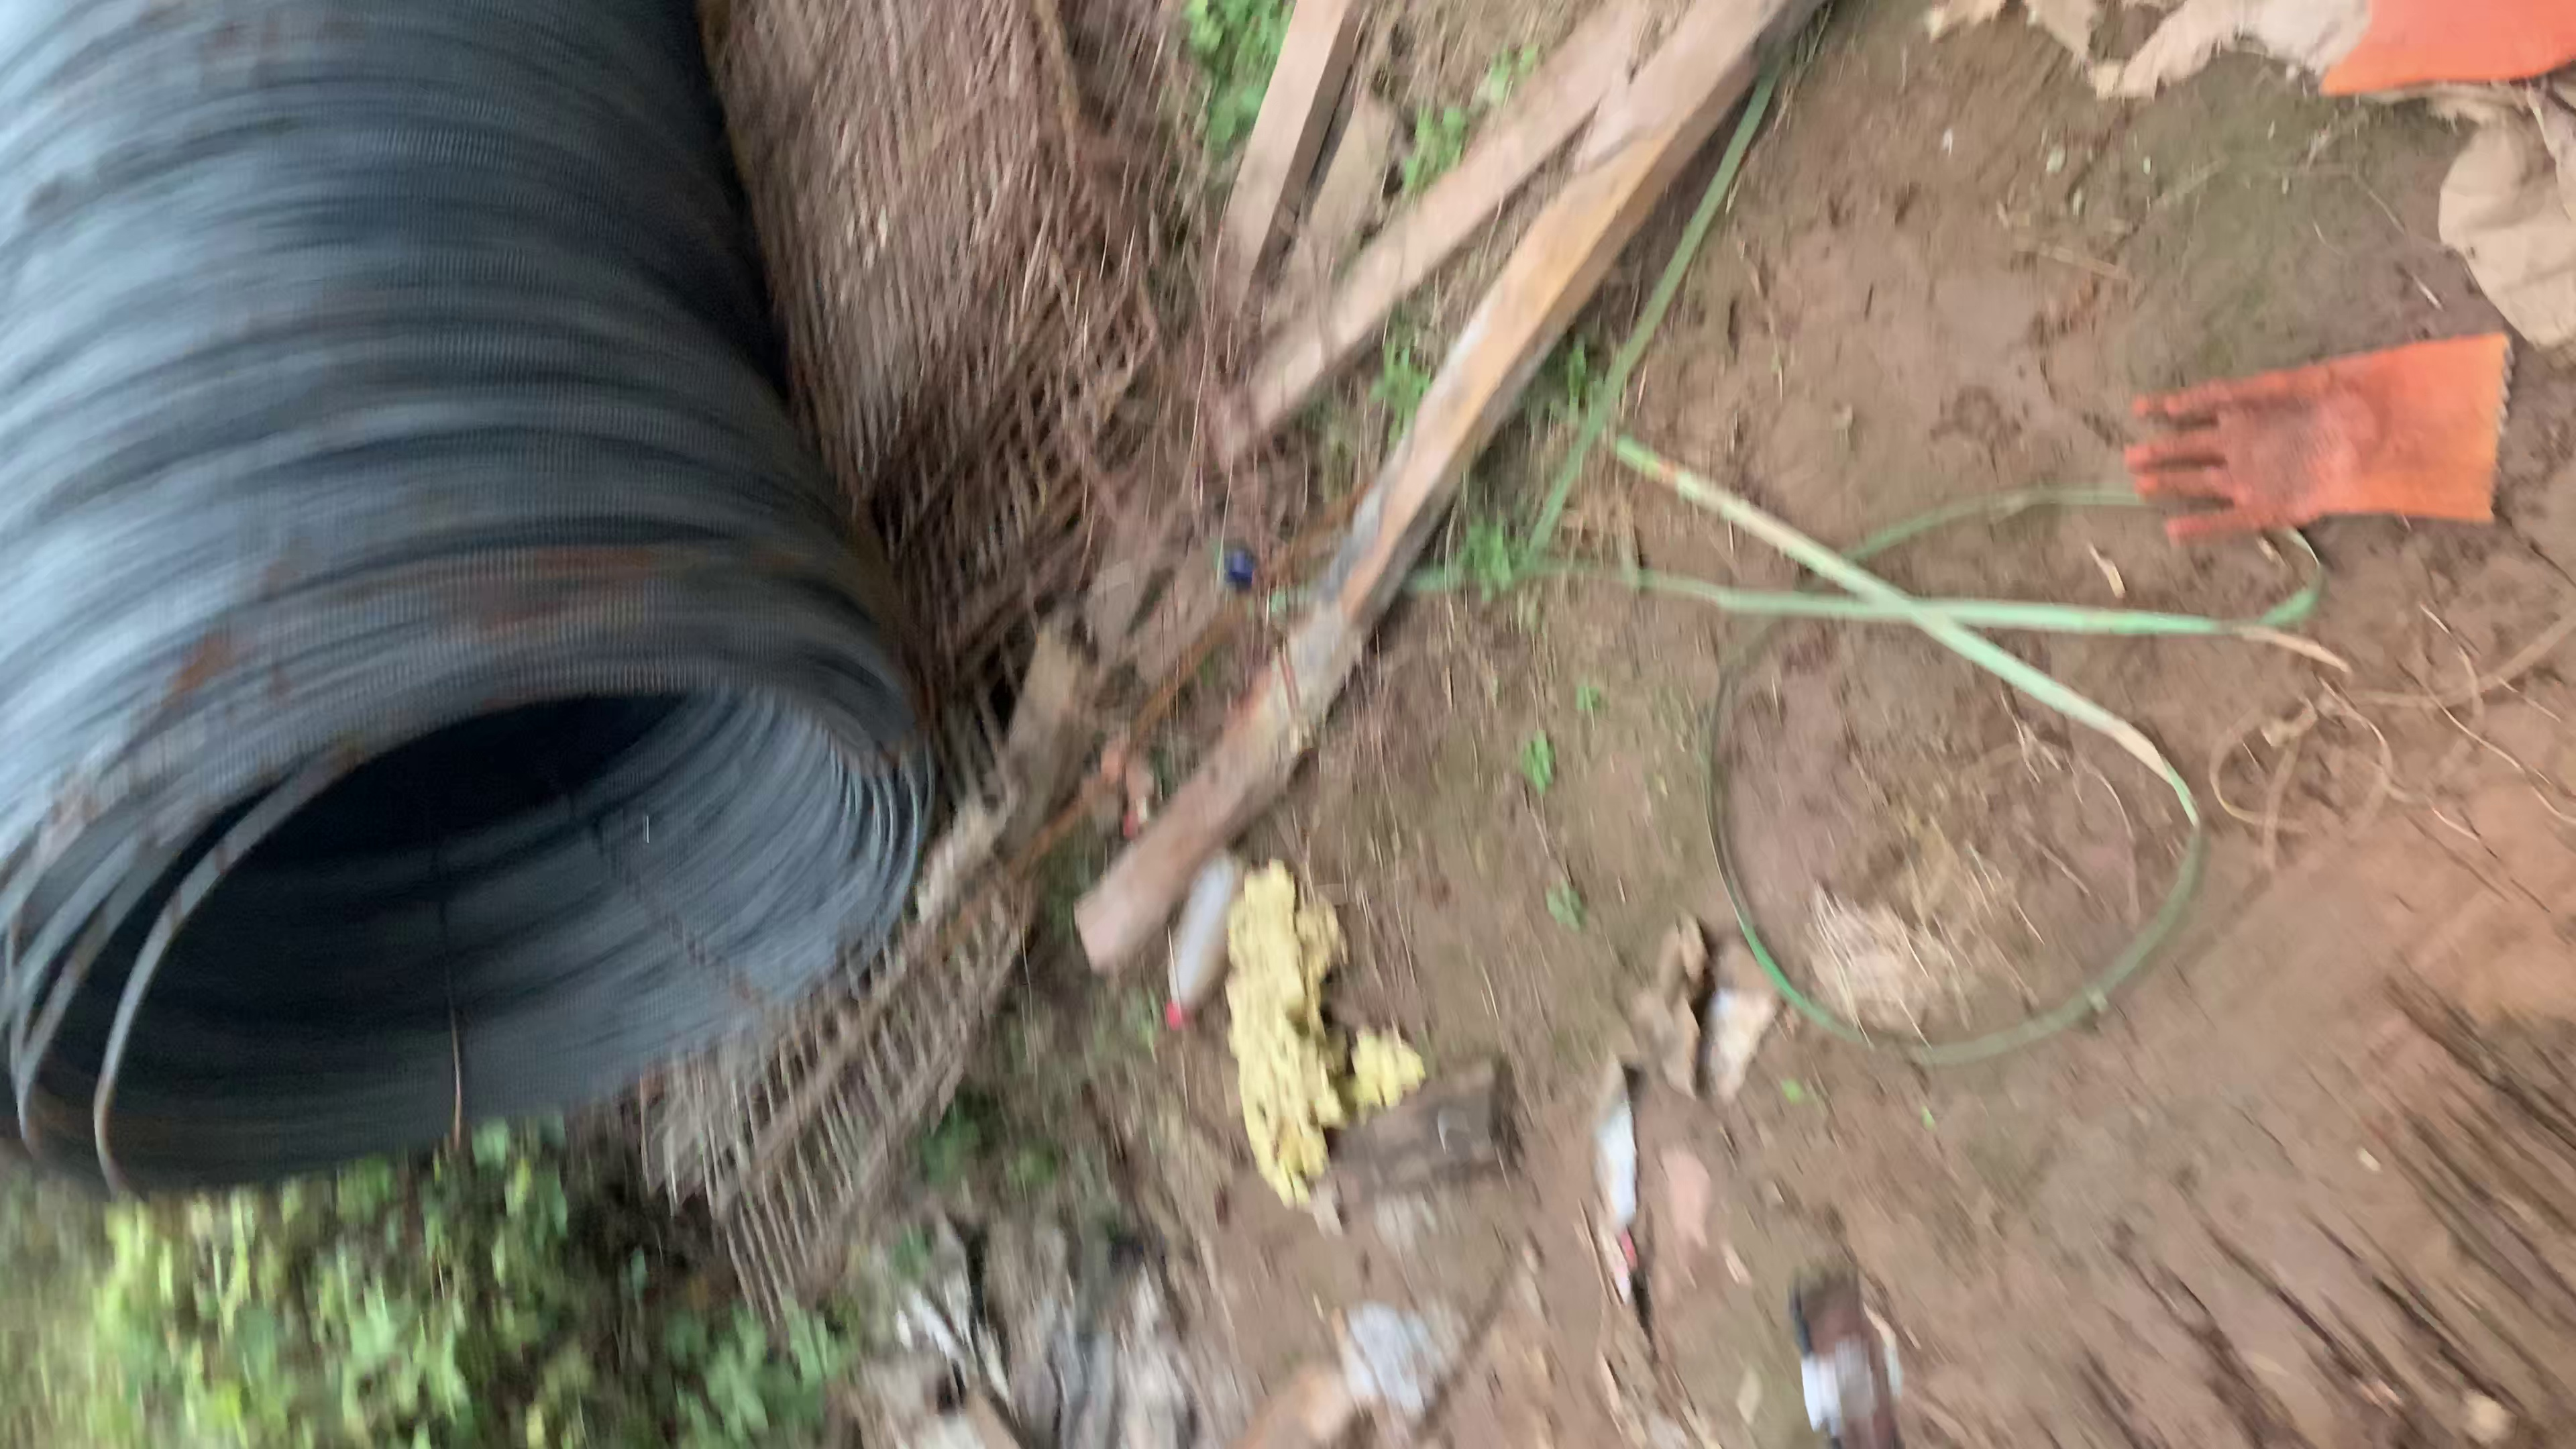coil: (25, 655, 915, 1184)
